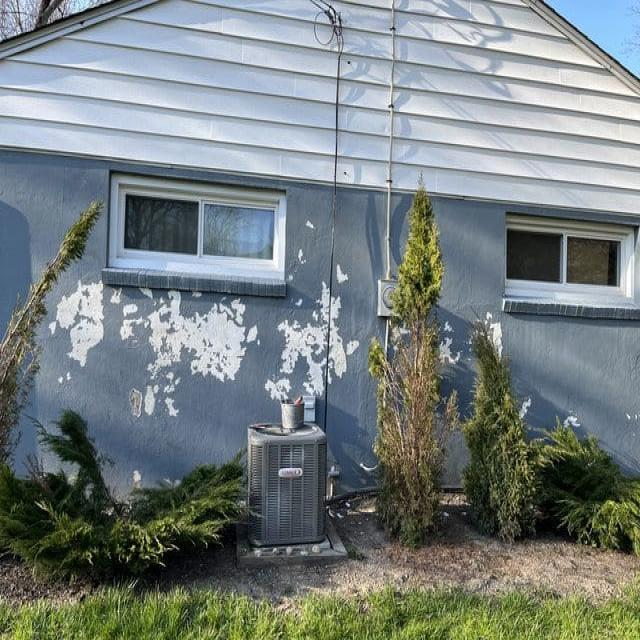peeling: (128, 297, 259, 415), (265, 264, 358, 401), (53, 279, 108, 369)
